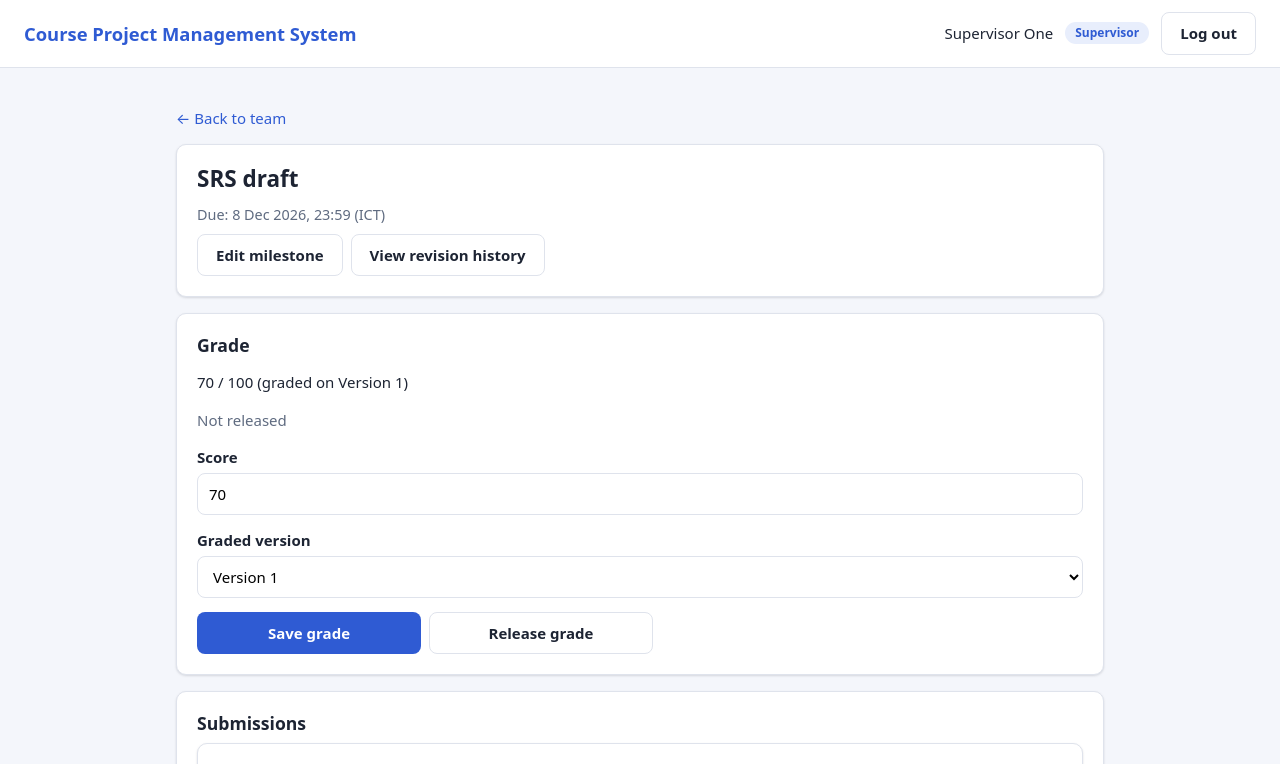
Scenario: F-08 Grades UI › TEST-08-10: a rule rejection from the API is shown in the Grade card
Expected: the text "70 / 100 (graded on Version 1)" is shown, [197,372,408,392]
Step 1. Click the button "Save grade" → x=309, y=633, box [197,612,421,654]
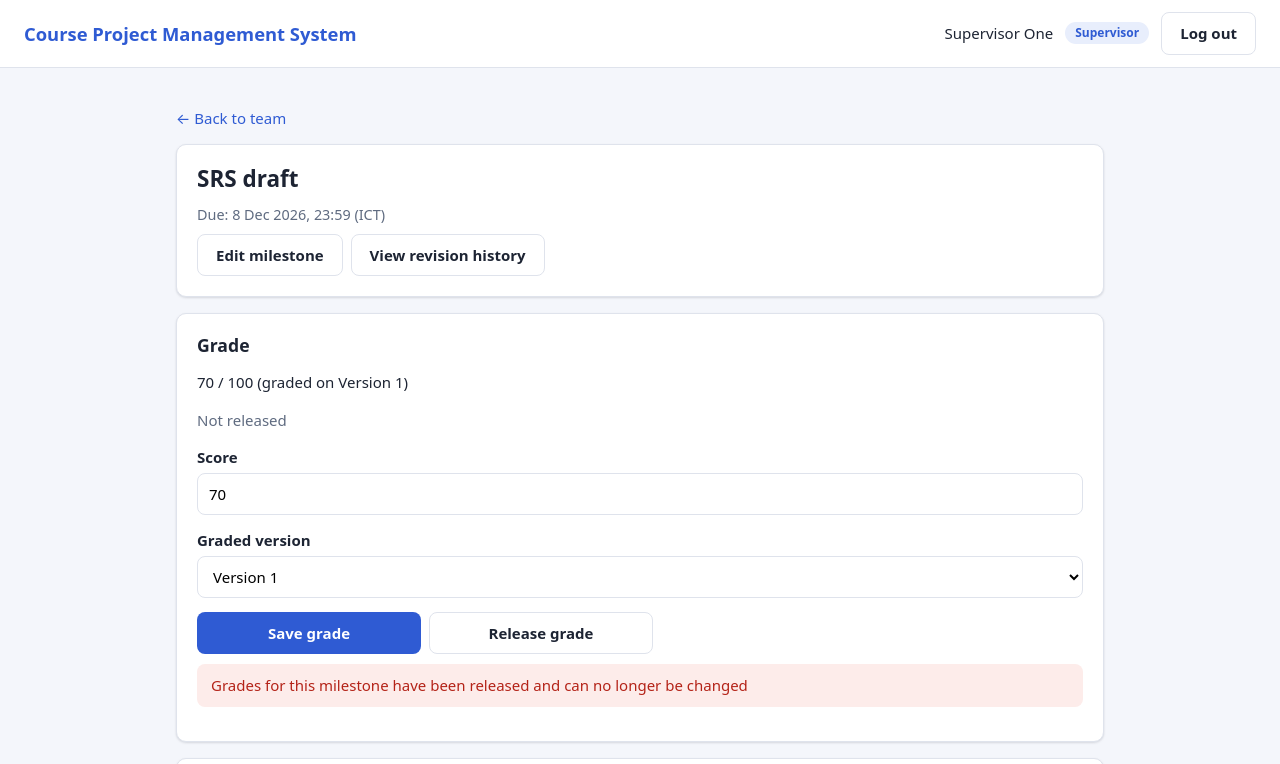
Result: the message reads "Grades for this milestone have been released and can no longer be changed" at [211,676,748,696]
